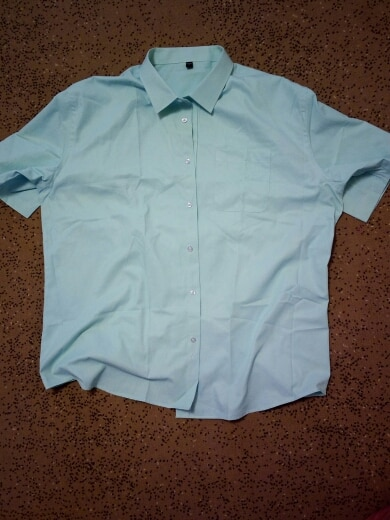shirts: (7, 43, 388, 413)
